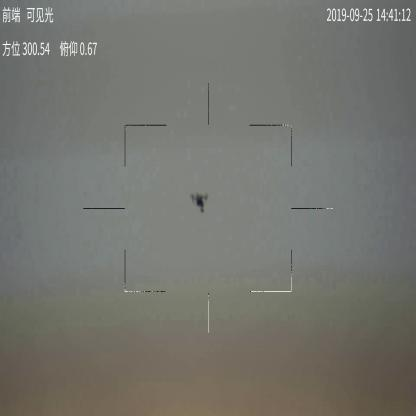uav: (189, 189, 210, 215)
